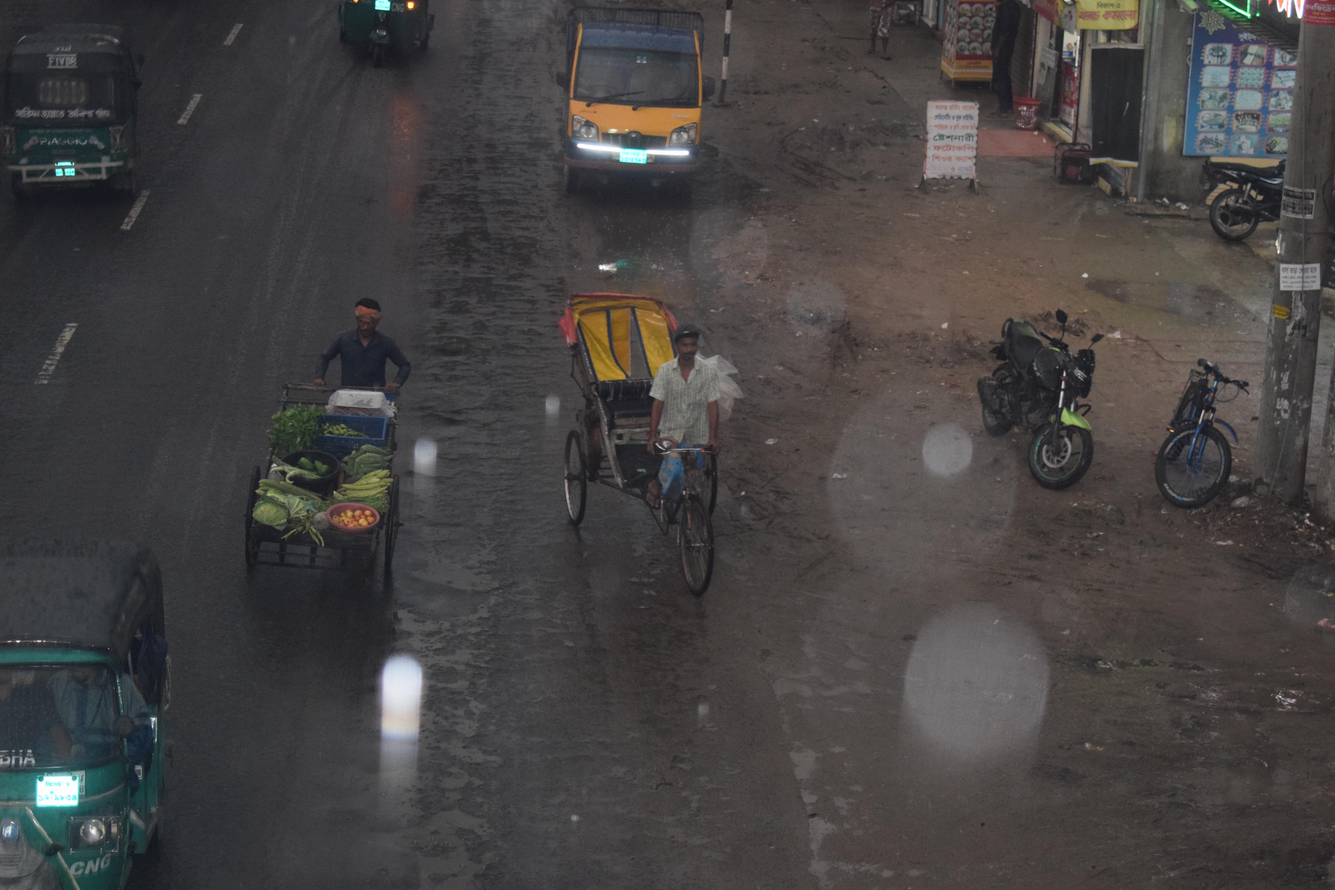Bike: (916, 263, 1143, 545)
Car: (499, 253, 776, 651)
Truck: (522, 12, 741, 235)
